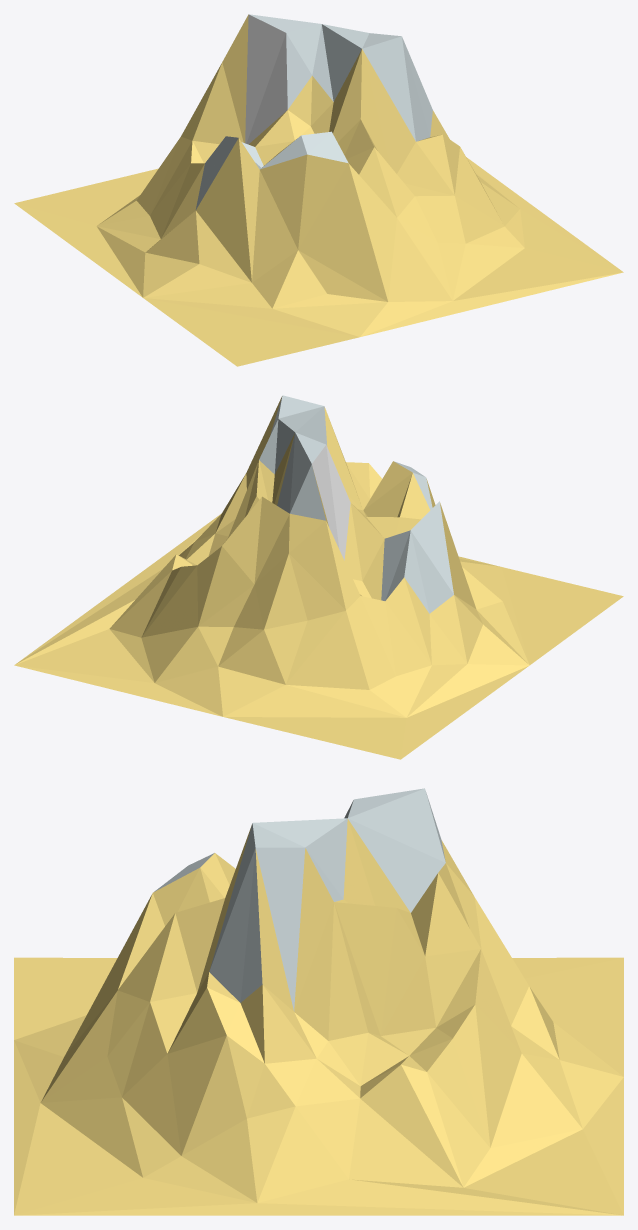
3 renders of one model, top to bottom at view 1: azimuth 30°, elevation 25°; view 2: azimuth 150°, elevation 25°; view 3: azimuth 270°, elevation 25°, orthographic. The views are drawn at different scales.
Parts seen in each view (by area): view 1: Landscape.009; view 2: Landscape.009; view 3: Landscape.009.
Part boxes in pixels (x1=…): Landscape.009: x1=14, y1=14, x2=623, y2=366; Landscape.009: x1=14, y1=395, x2=623, y2=759; Landscape.009: x1=14, y1=788, x2=623, y2=1215.
Size of the model in its own units: 2 by 1.01 by 2.
